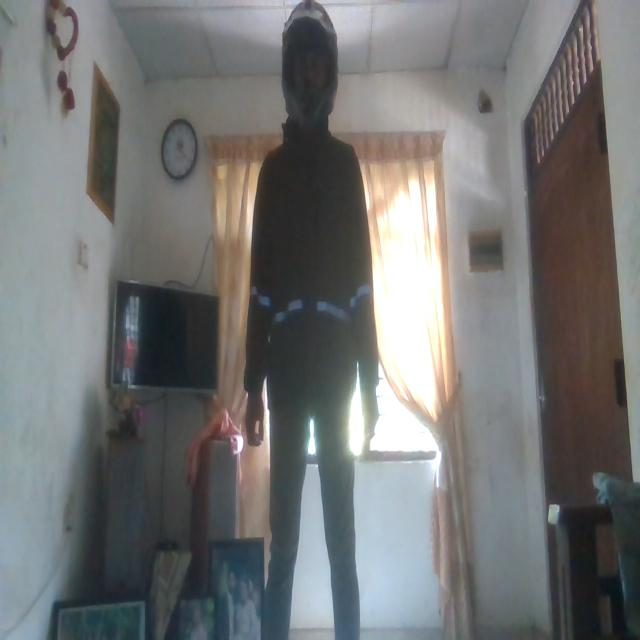Helmet_Wearer: (274, 2, 342, 150)
Jacket_Wearer: (247, 130, 381, 444)
Person: (246, 1, 378, 640)
